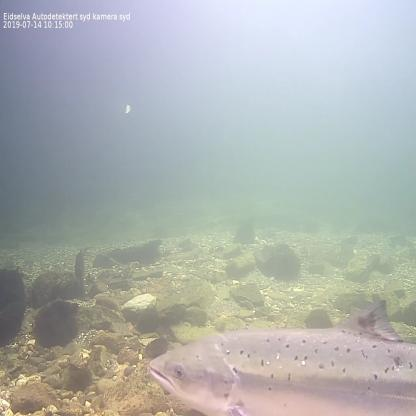salmon: (145, 296, 416, 416)
